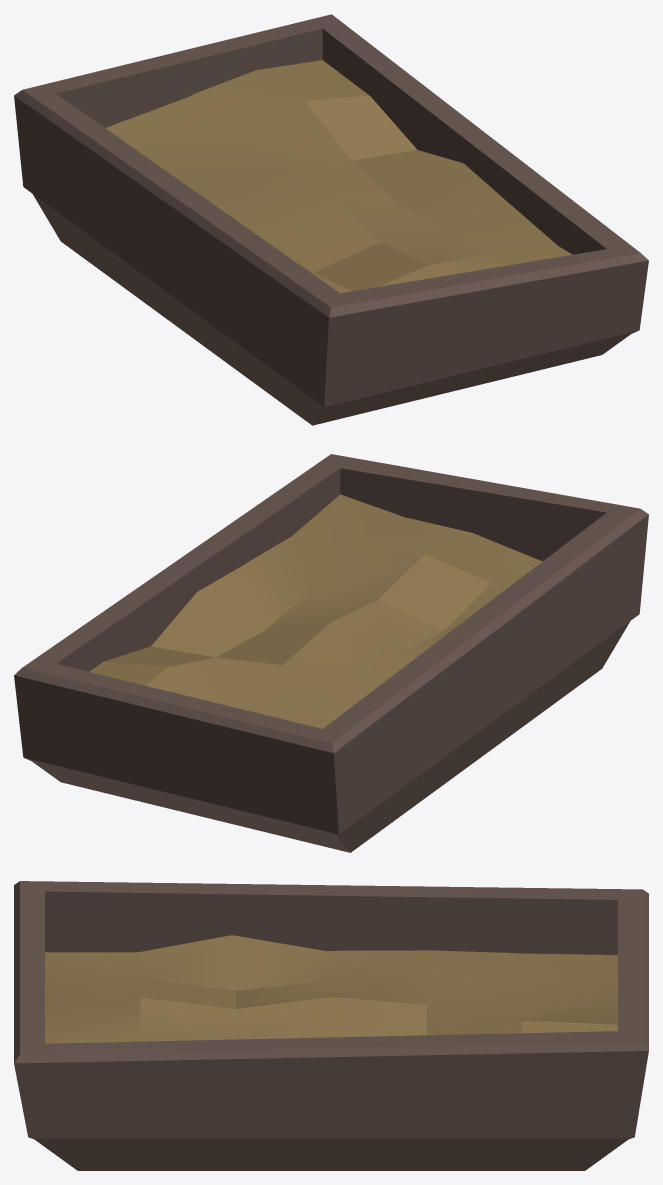
The model's file is fooddish_a003.glb.
3 renders of one model, top to bottom at view 1: azimuth 30°, elevation 25°; view 2: azimuth 150°, elevation 25°; view 3: azimuth 270°, elevation 25°, orthographic.
Visible parts, largest first — view 1: fooddish_a003; view 2: fooddish_a003; view 3: fooddish_a003.
Part boxes in pixels (x1,y1,x2,y2): fooddish_a003: (14, 14, 648, 425); fooddish_a003: (14, 454, 648, 852); fooddish_a003: (14, 881, 648, 1170).
Size of the model in its own units: 0.6006 by 0.2537 by 1.02.
1 material, 1 textured.
